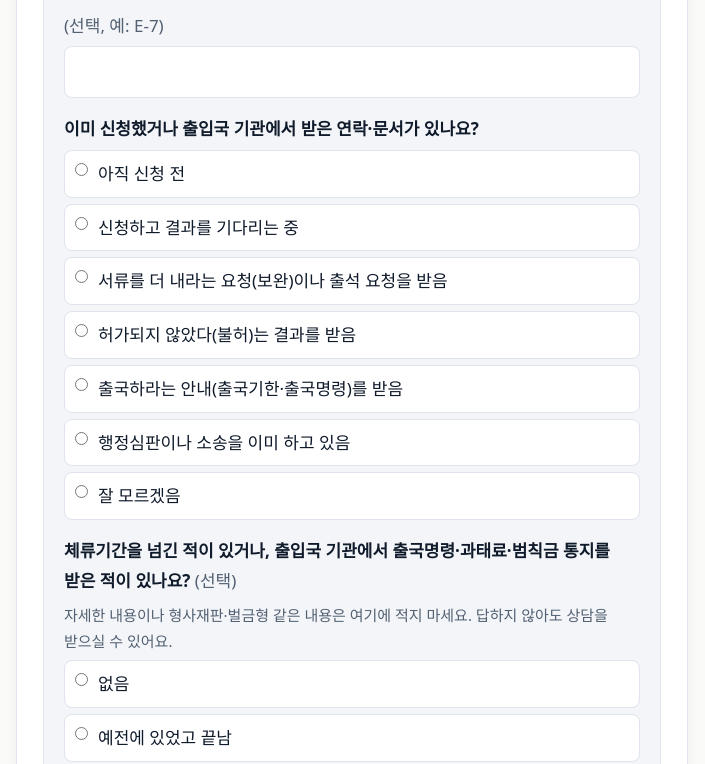
출입국·비자 상담 접수 질문 › 불허·출국 안내를 고르면 받은 날짜와 마감일을 묻고 업무 범위를 안내한다
(page scrolled)
Click the radio button labelled "출국하라는 안내(출국기한·출국명령)를 받음" at {"x": 82, "y": 384}, box left=75, top=378, right=88, bottom=391
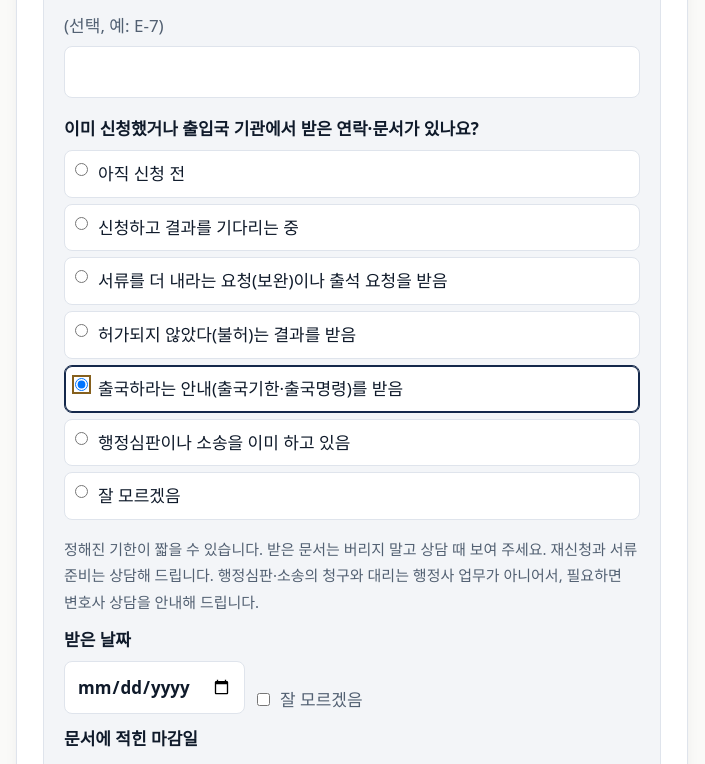
Check: the message is shown, box left=64, top=536, right=640, bottom=615
